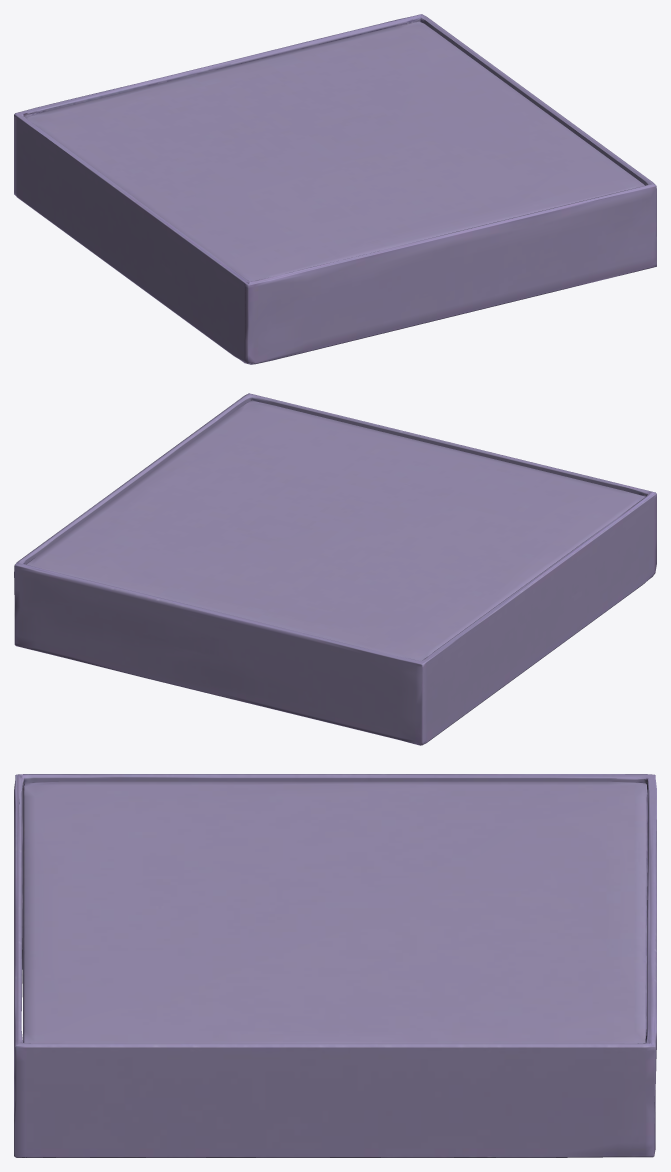
The model's file is selected.glb.
3 renders of one model, top to bottom at view 1: azimuth 30°, elevation 25°; view 2: azimuth 150°, elevation 25°; view 3: azimuth 270°, elevation 25°, orthographic. The views are drawn at different scales.
Parts seen in each view (by area): view 1: tripo_node_9c30bad7-d2e3-4595-950b-fd7e6df2bb8d; view 2: tripo_node_9c30bad7-d2e3-4595-950b-fd7e6df2bb8d; view 3: tripo_node_9c30bad7-d2e3-4595-950b-fd7e6df2bb8d.
Part boxes in pixels (x1,y1,x2,y2): tripo_node_9c30bad7-d2e3-4595-950b-fd7e6df2bb8d: [14, 14, 656, 364]; tripo_node_9c30bad7-d2e3-4595-950b-fd7e6df2bb8d: [14, 393, 656, 745]; tripo_node_9c30bad7-d2e3-4595-950b-fd7e6df2bb8d: [14, 774, 656, 1157].
Size of the model in its own units: 0.998 by 0.1934 by 0.9941.
Materials: 1 (1 with a texture image).
